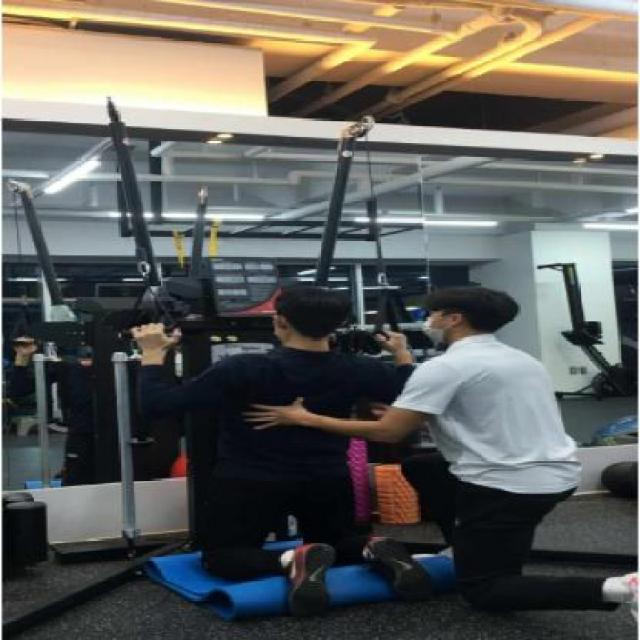Lat Pull Down: (61, 80, 542, 626)
